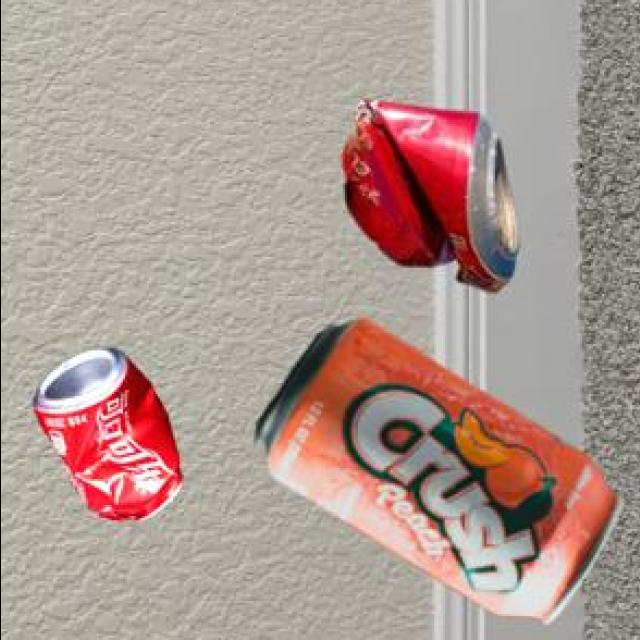logam: (249, 323, 619, 628), (339, 103, 515, 295), (29, 352, 180, 526)
